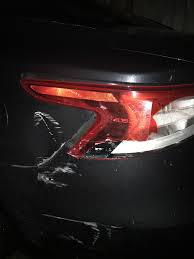Taillight-Damage: (65, 83, 193, 160)
